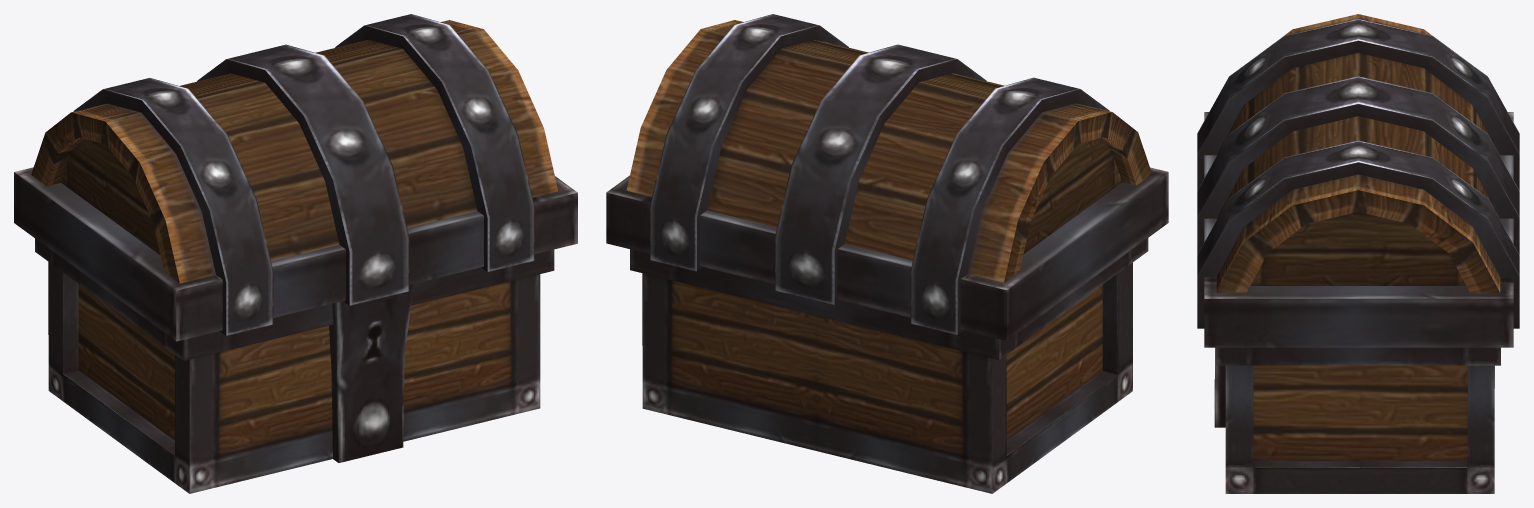
File: baoxiang.FBX
3 views of the same model, side by side, from view 1: azimuth 30°, elevation 25°; view 2: azimuth 150°, elevation 25°; view 3: azimuth 270°, elevation 25° (orthographic). The views are drawn at different scales.
Visible parts, largest first — view 1: baoxiang; view 2: baoxiang; view 3: baoxiang.
Part boxes in pixels (left/top/right/bottom): baoxiang: left=14, top=14, right=577, bottom=493; baoxiang: left=606, top=14, right=1168, bottom=493; baoxiang: left=1197, top=14, right=1519, bottom=493.
Size of the model in its own units: 34.77 by 27.92 by 25.33.
Materials: 1 (1 with a texture image).
